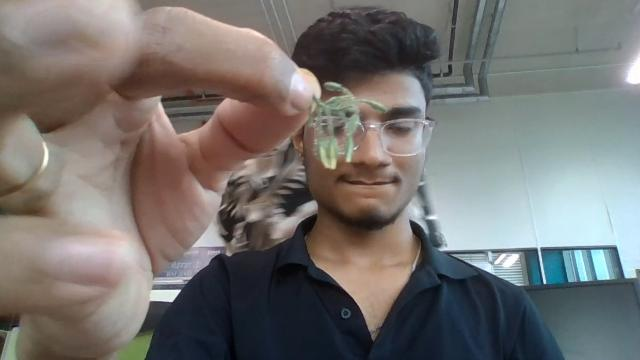Flower Bud: (316, 95, 373, 114), (319, 105, 337, 164), (356, 98, 388, 113), (344, 133, 354, 164), (322, 82, 346, 93), (319, 143, 329, 169)
